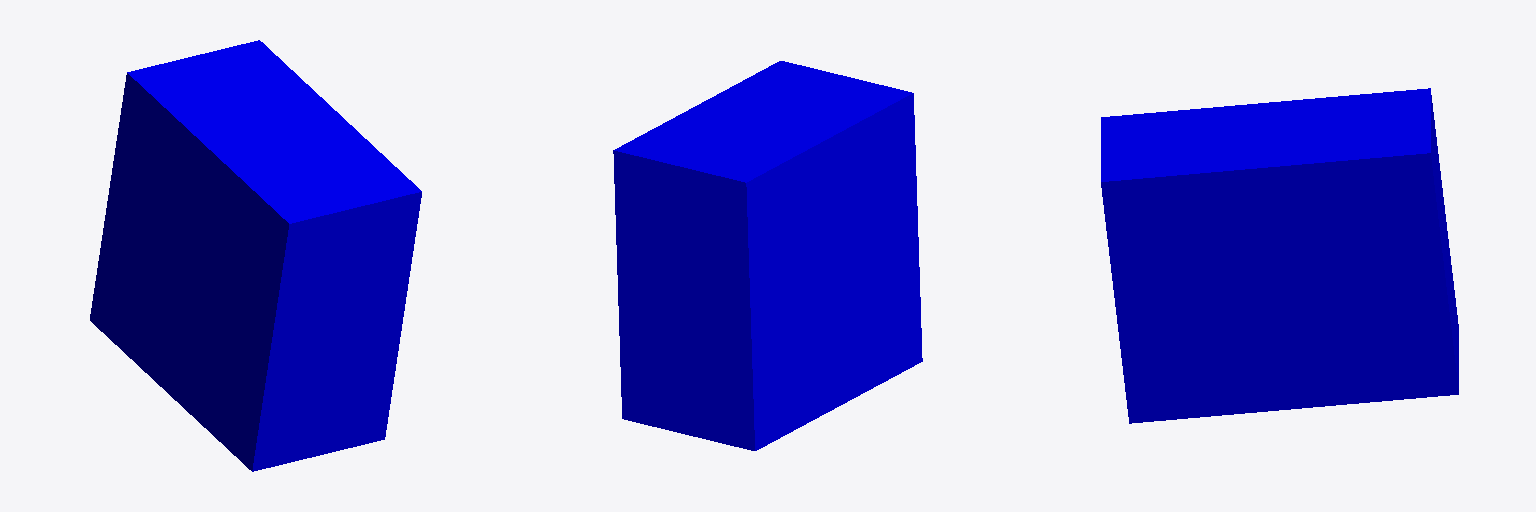
Rendered from planes_1-dynamic - BLK2GO-3630355-Scan 080 32.obj.
The picture shows the model from 3 angles: view 1: azimuth 30°, elevation 25°; view 2: azimuth 150°, elevation 25°; view 3: azimuth 270°, elevation 25°; orthographic projection.
Visible parts, largest first — view 1: 1-dynamic_-_BLK2GO-[number redacted]-Scan_080_32_0; view 2: 1-dynamic_-_BLK2GO-[number redacted]-Scan_080_32_0; view 3: 1-dynamic_-_BLK2GO-[number redacted]-Scan_080_32_0.
Boxes of the visible parts, x1=… form: 1-dynamic_-_BLK2GO-[number redacted]-Scan_080_32_0: x1=90, y1=40, x2=421, y2=471; 1-dynamic_-_BLK2GO-[number redacted]-Scan_080_32_0: x1=613, y1=61, x2=922, y2=450; 1-dynamic_-_BLK2GO-[number redacted]-Scan_080_32_0: x1=1101, y1=88, x2=1458, y2=423.
Size of the model in its own units: 1.2 by 2.05 by 2.36.